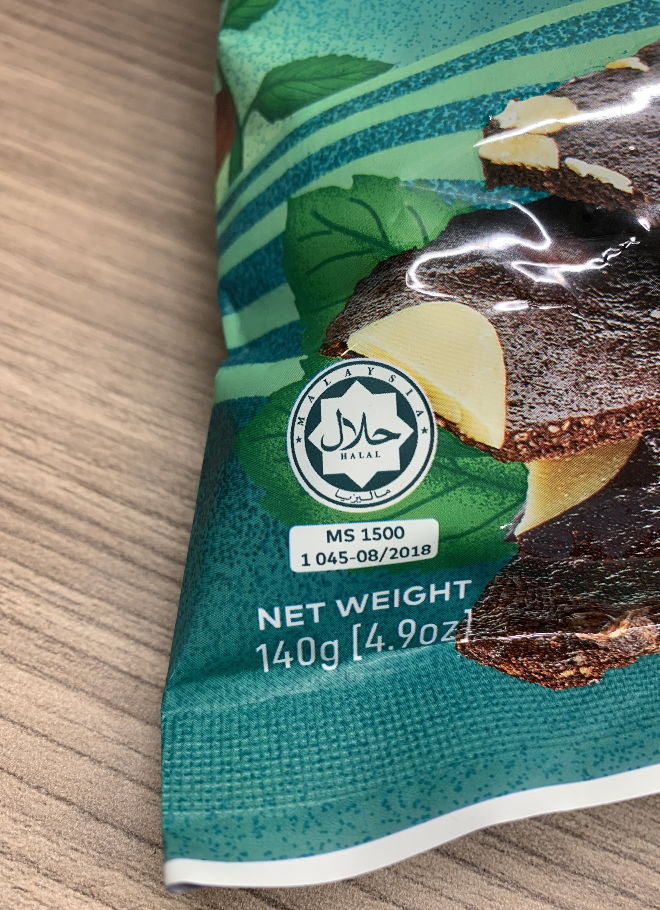halal: (312, 376, 406, 483)
